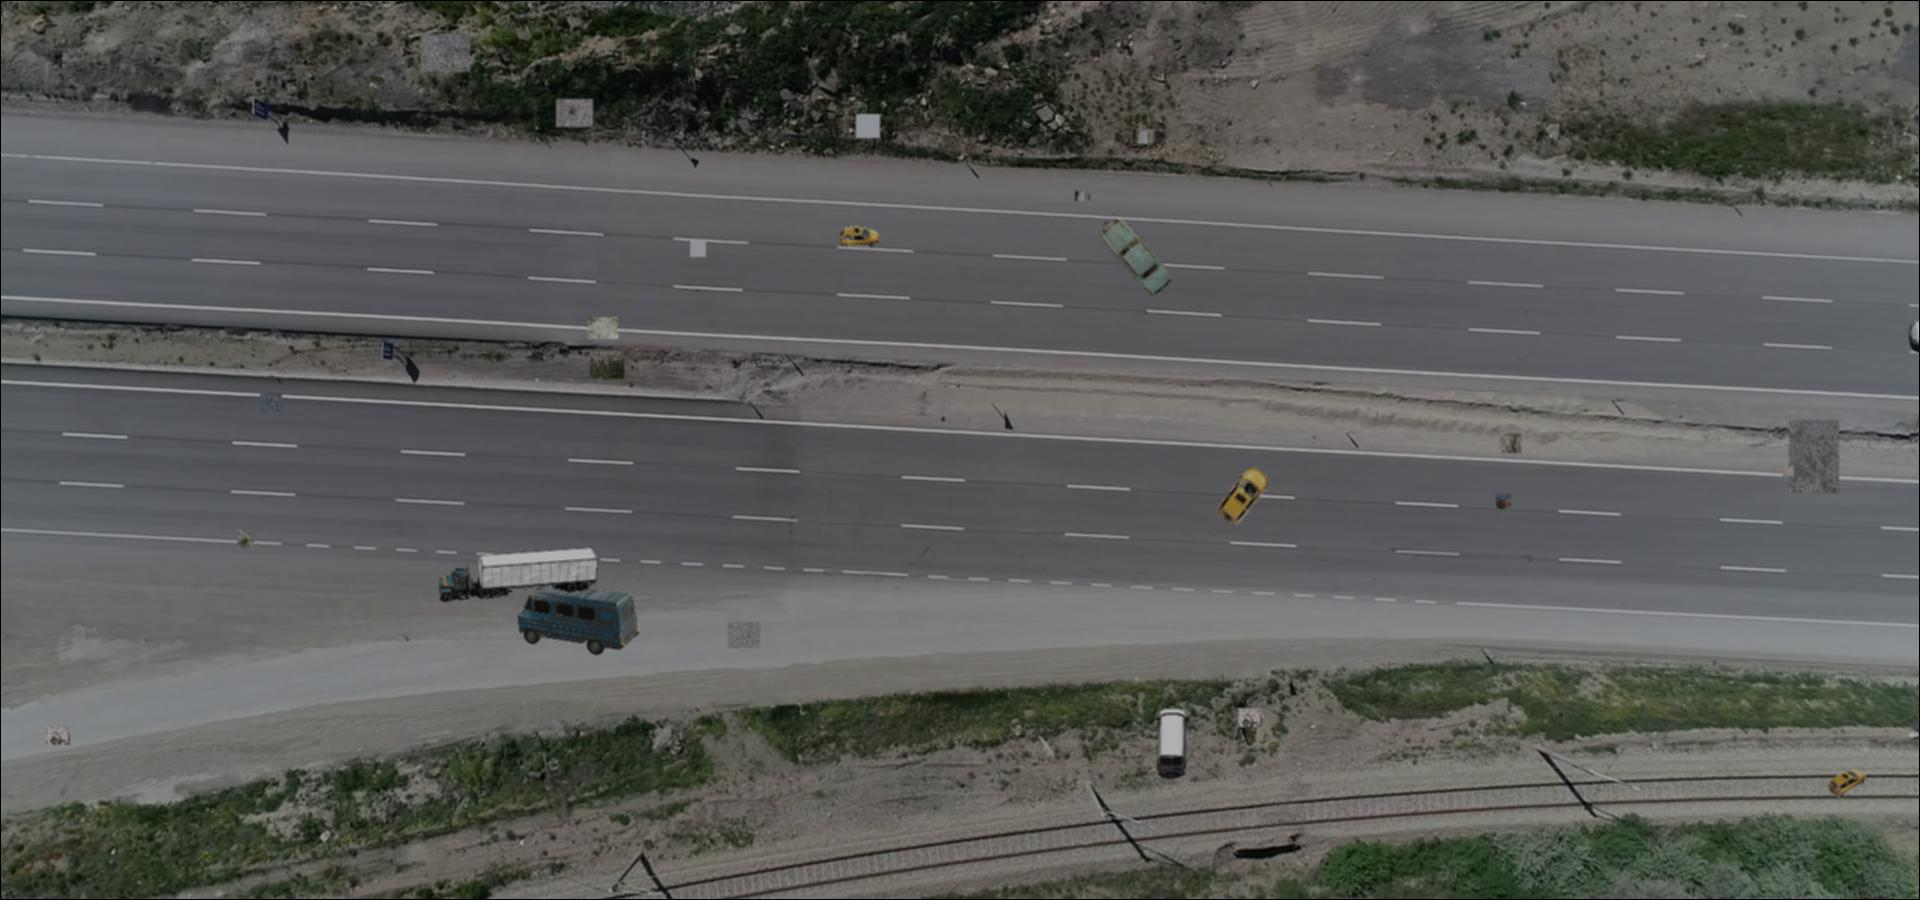arac: (514, 580, 640, 655), (440, 544, 598, 602), (1100, 216, 1176, 295), (1216, 465, 1270, 527), (1153, 707, 1191, 779), (1828, 770, 1866, 797), (840, 227, 880, 249)
